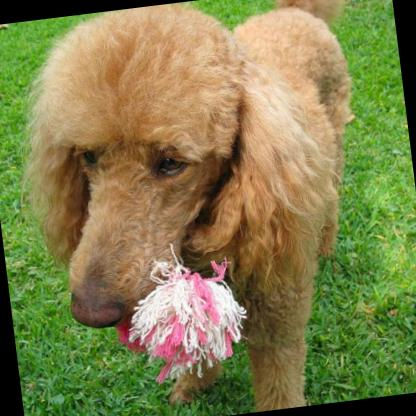standard_poodle: (3, 0, 394, 416)
